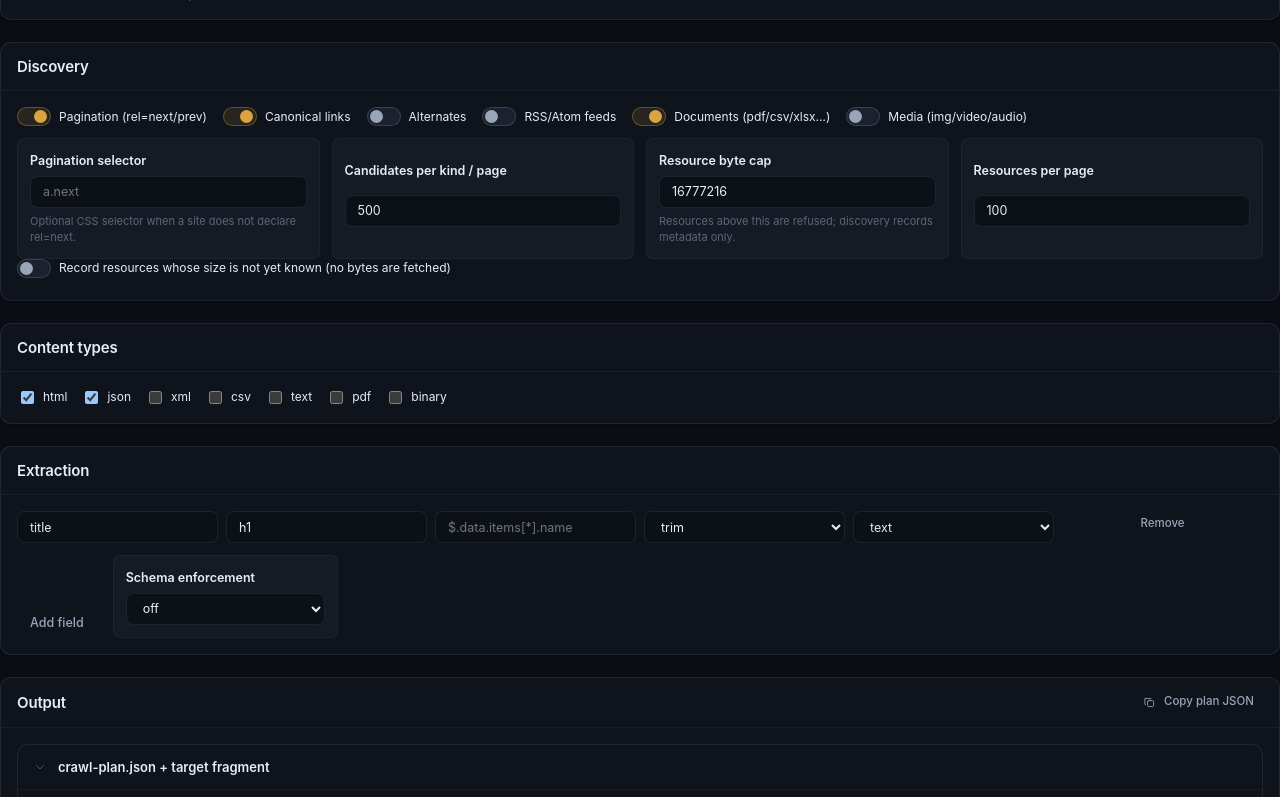
Test case: Crawl Studio — discovery and content controls › selects content types and warns that pdf/binary produce no records
(page scrolled)
Click the checkbox labelled "pdf": (337, 398) x1=330 y1=391 x2=343 y2=404
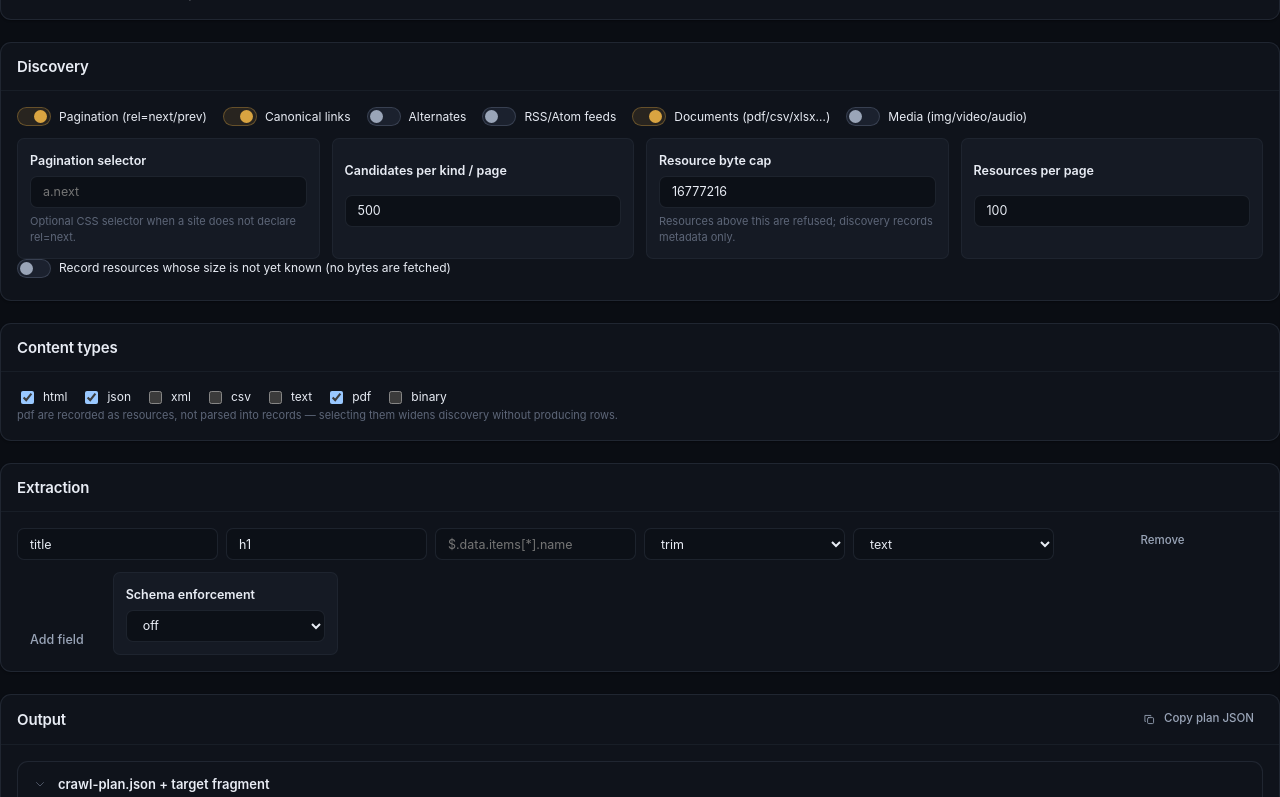
expect the text "recorded as resources, not parsed into records" is shown: met, box x1=34 y1=408 x2=618 y2=422
